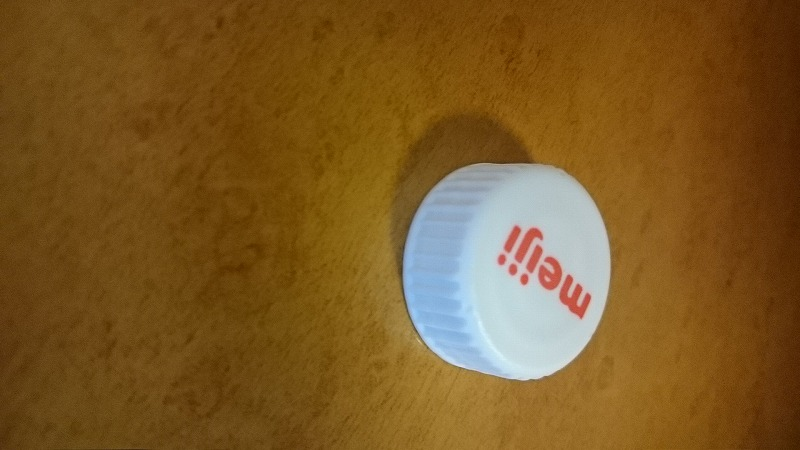B: (386, 146, 623, 392)
